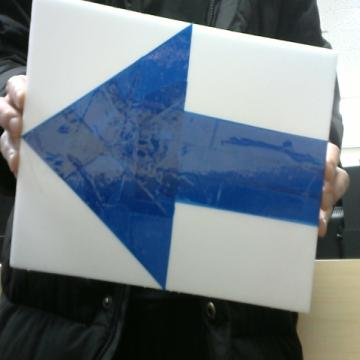blue_left: (23, 26, 326, 286)
